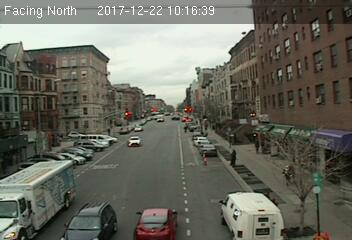car: (59, 202, 117, 240), (133, 206, 179, 239), (201, 143, 217, 154), (128, 137, 140, 146)
pedestrian: (230, 147, 237, 166)
truck: (219, 191, 284, 240)
